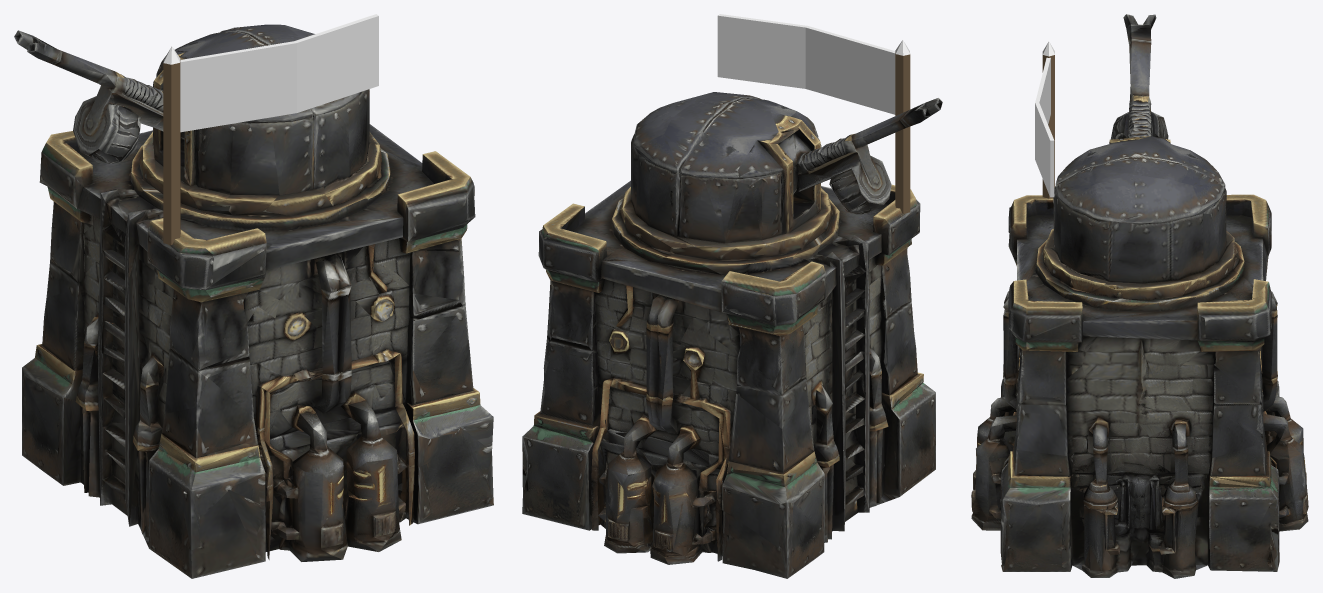
3 renders of one model, left to right at view 1: azimuth 30°, elevation 25°; view 2: azimuth 150°, elevation 25°; view 3: azimuth 270°, elevation 25°, orthographic. The views are drawn at different scales.
Parts seen in each view (by area): view 1: gun_turret, Team_banner; view 2: gun_turret, Team_banner; view 3: gun_turret, Team_banner.
Part boxes in pixels (x1=…): gun_turret: x1=14, y1=24, x2=493, y2=578; Team_banner: x1=163, y1=14, x2=378, y2=244; gun_turret: x1=522, y1=92, x2=942, y2=578; Team_banner: x1=717, y1=14, x2=910, y2=213; gun_turret: x1=971, y1=14, x2=1308, y2=578; Team_banner: x1=1035, y1=41, x2=1054, y2=198.
Bounding box in the file's own units: 1.62 × 1.94 × 1.43.
Materials: 3 (1 with a texture image).
